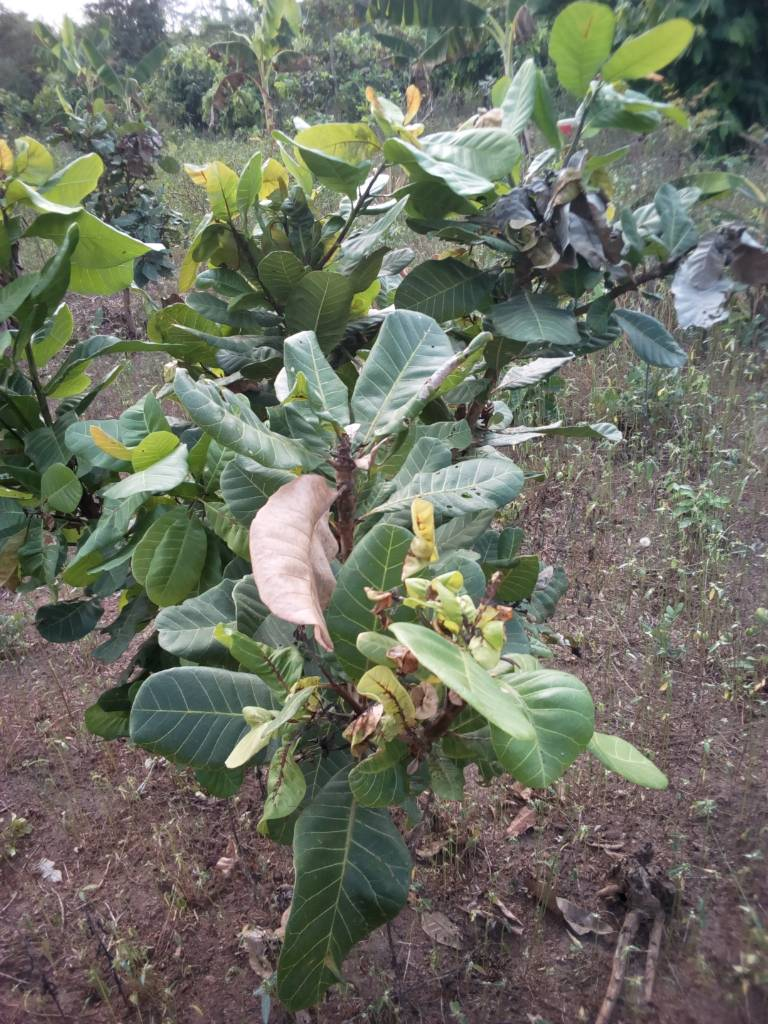Dessèchement des bourgeons: (531, 169, 611, 276)
